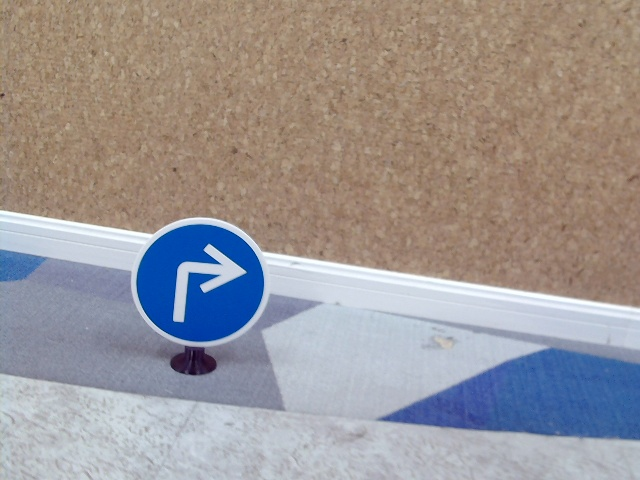turn_right: (164, 240, 245, 322)
